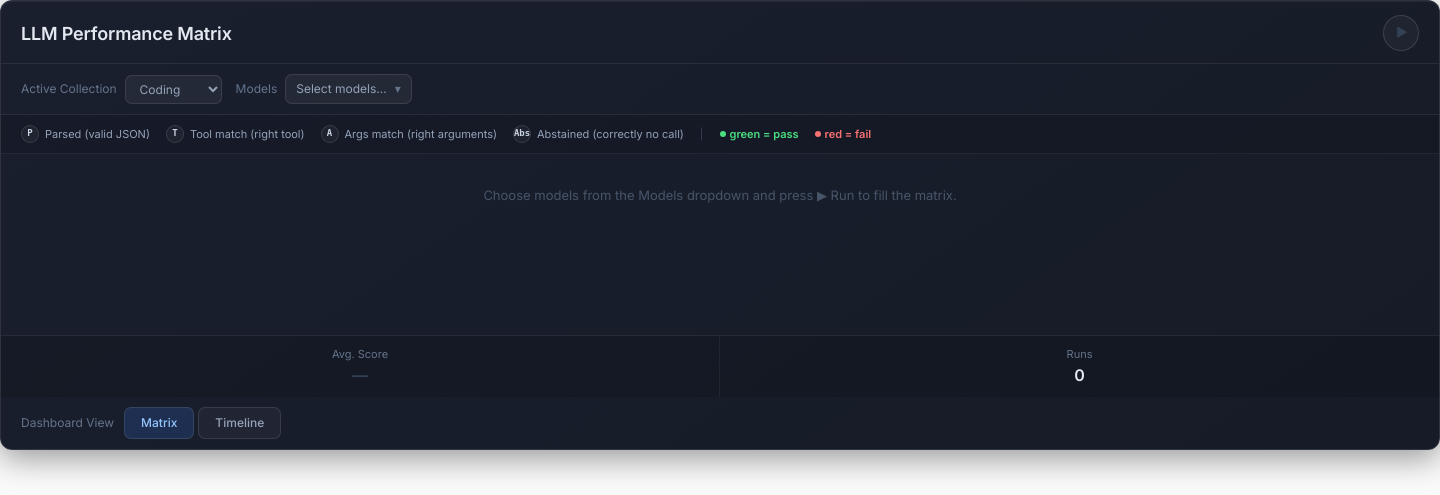
Test case: MatrixPanel › switches to the timeline view
Click the button with test id "matrix-view-timeline" at (240, 422), box [198,406,281,438]
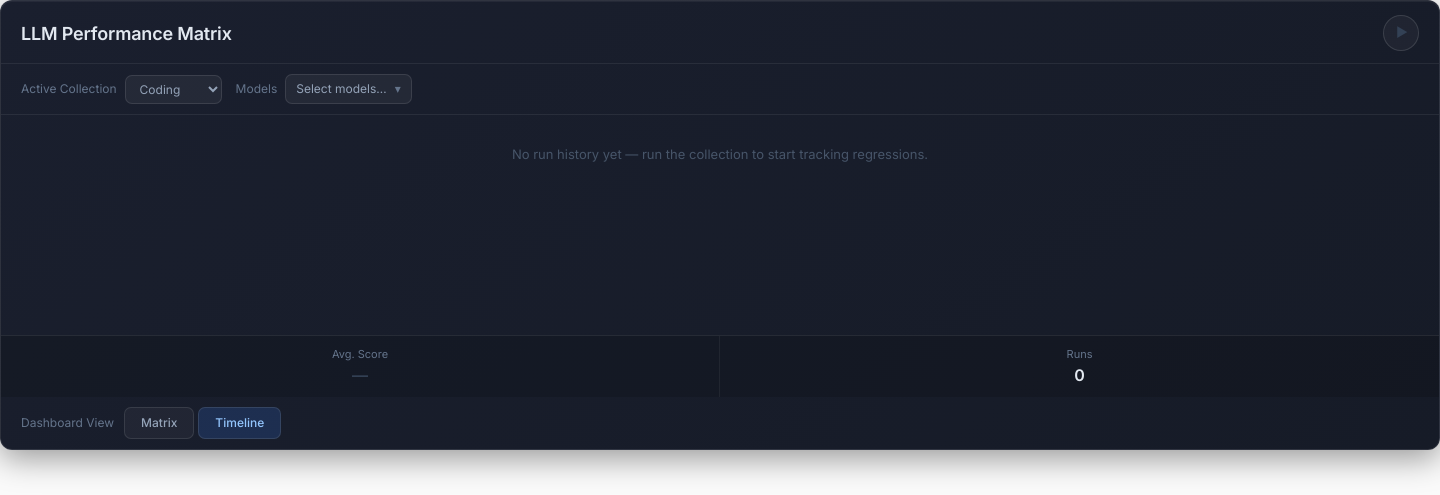
Expected: the text with test id "eval-history-empty" is shown, [512,146,928,162]
